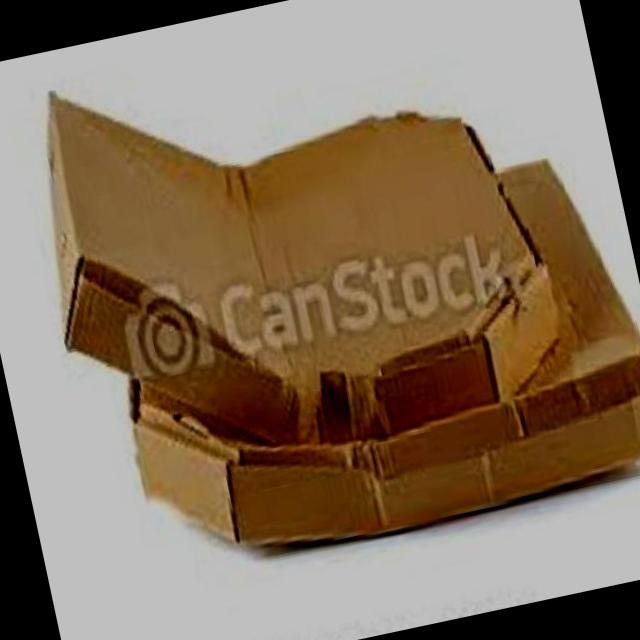box: (1, 60, 607, 438)
